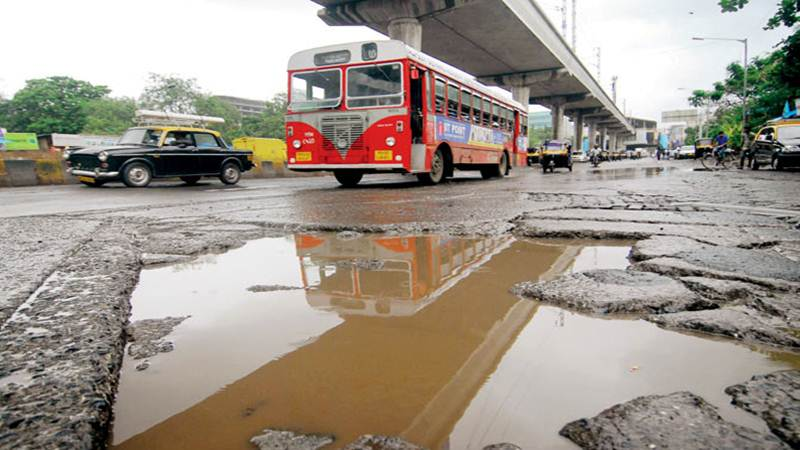pothole: (102, 206, 781, 444)
